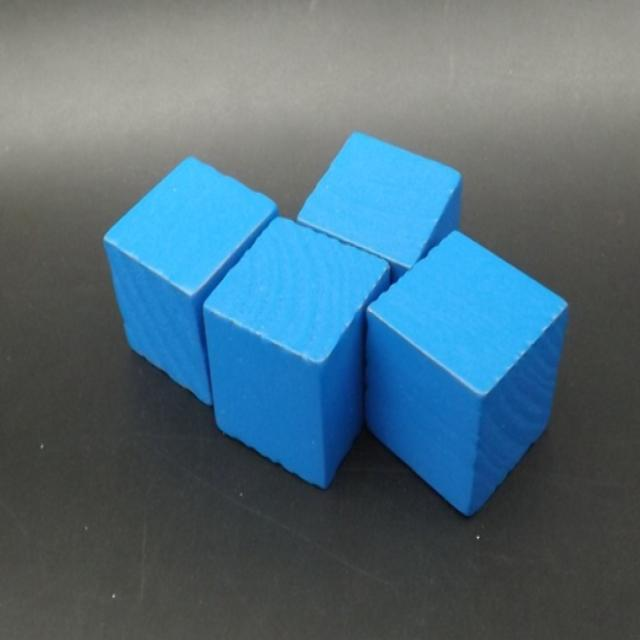bluecube: (365, 226, 569, 518), (203, 216, 392, 491), (102, 153, 280, 408), (296, 130, 462, 286)
